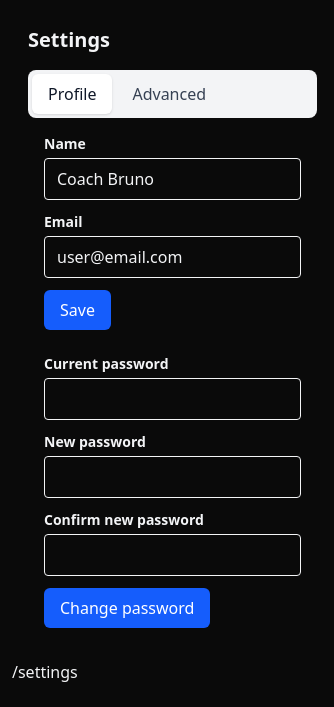
Test: profile name/email form › an empty name is rejected with a message and saves nothing
This screenshot has width=334, height=707.
Expected: the heading "Settings" is shown, [28,26,110,53]
Clear the field labelled "Name" at (172, 179), box [44,158,301,200]
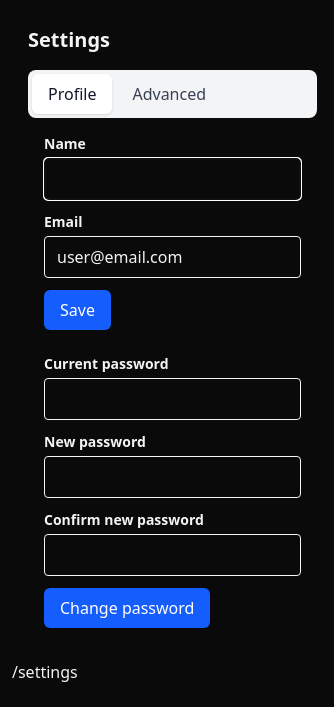
Click the button "Save" at (77, 310), box [44,290,111,330]
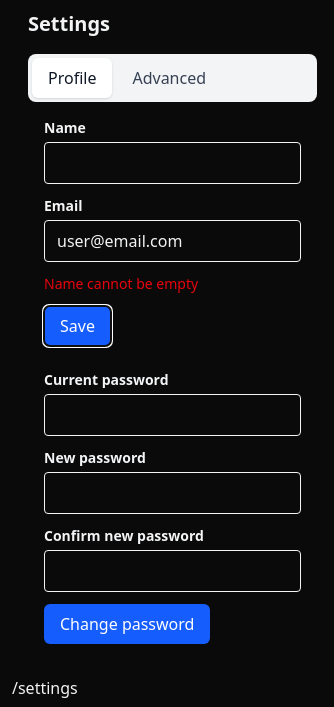
Result: the message reads "Name cannot be empty" at [44,274,198,293]
